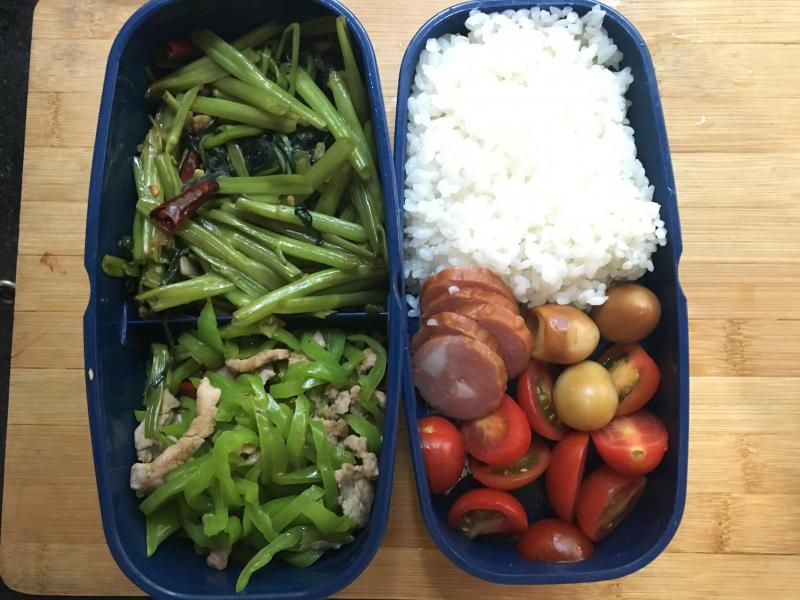rice: (425, 47, 619, 270)
water_spinach: (152, 49, 356, 303)
